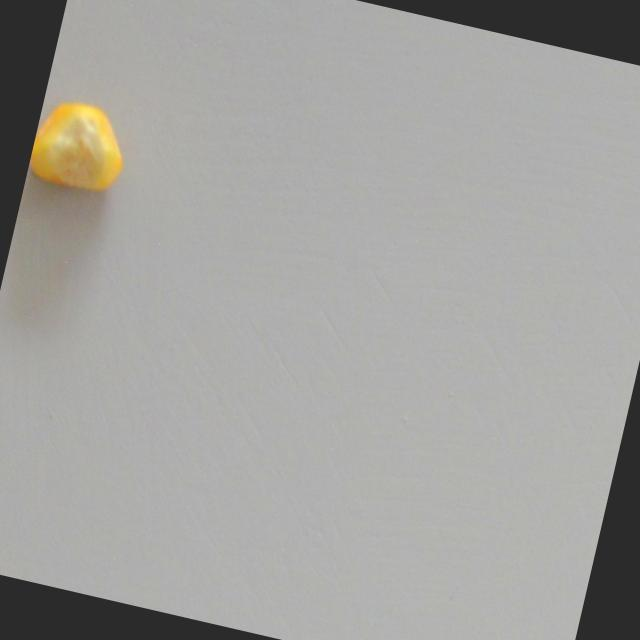no_desgerminado: (24, 92, 135, 201)
